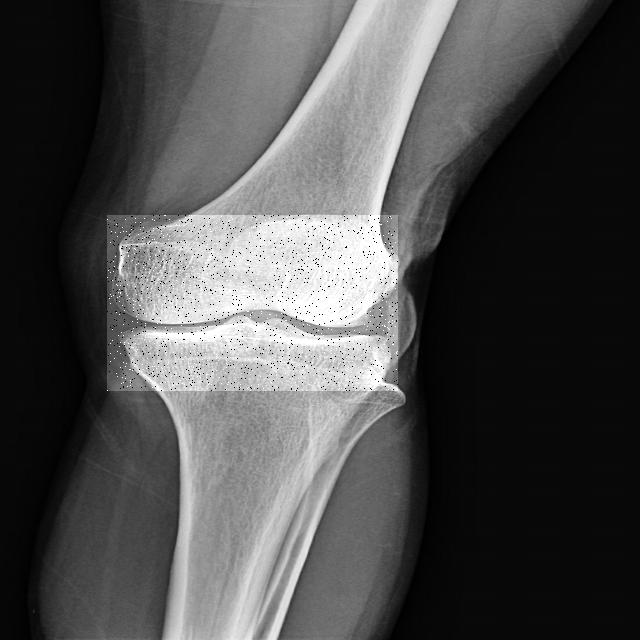osteo: (107, 215, 398, 391)
